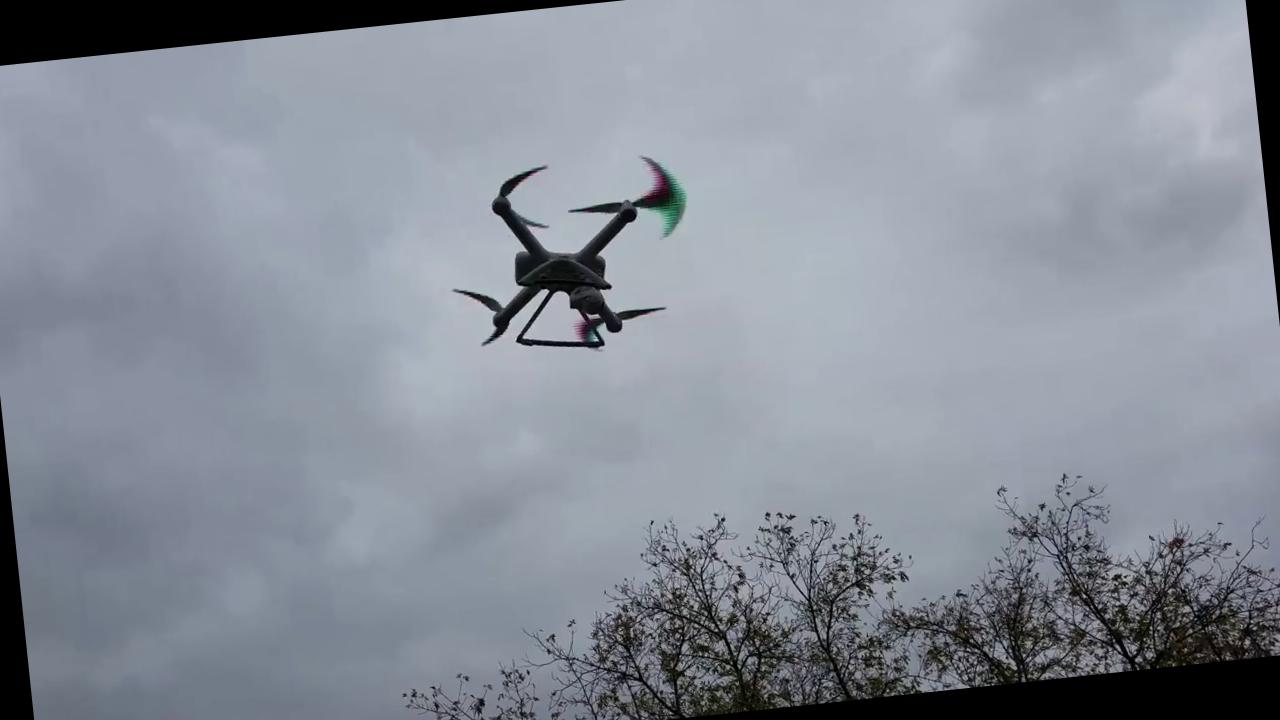drone: (437, 141, 712, 370)
